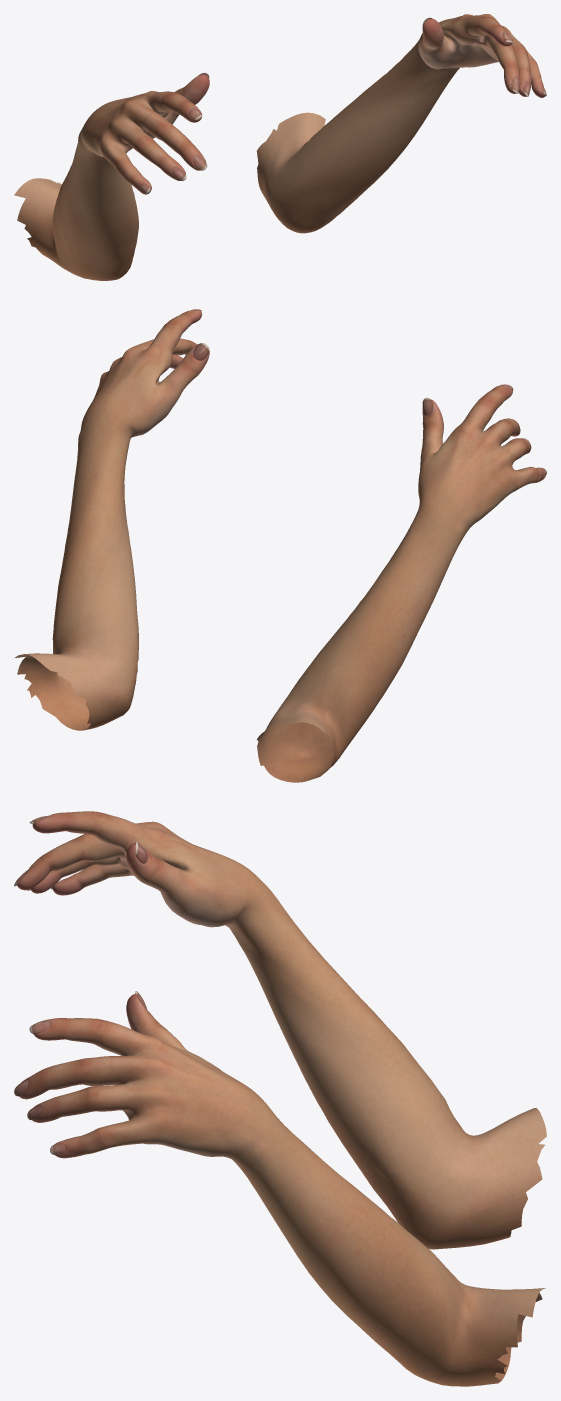
The model's file is Hands.fbx.
3 renders of one model, top to bottom at view 1: azimuth 30°, elevation 25°; view 2: azimuth 150°, elevation 25°; view 3: azimuth 270°, elevation 25°, orthographic. The views are drawn at different scales.
Visible parts, largest first — view 1: LeftHand, RightHand; view 2: RightHand, LeftHand; view 3: RightHand, LeftHand.
Part boxes in pixels (x1,y1,x2,y2): LeftHand: (256, 14, 546, 233); RightHand: (14, 72, 209, 280); RightHand: (257, 384, 546, 782); LeftHand: (15, 309, 209, 730); RightHand: (14, 811, 546, 1249); LeftHand: (14, 991, 545, 1386).
Size of the model in its own units: 0.7327 by 0.486 by 0.5942.
